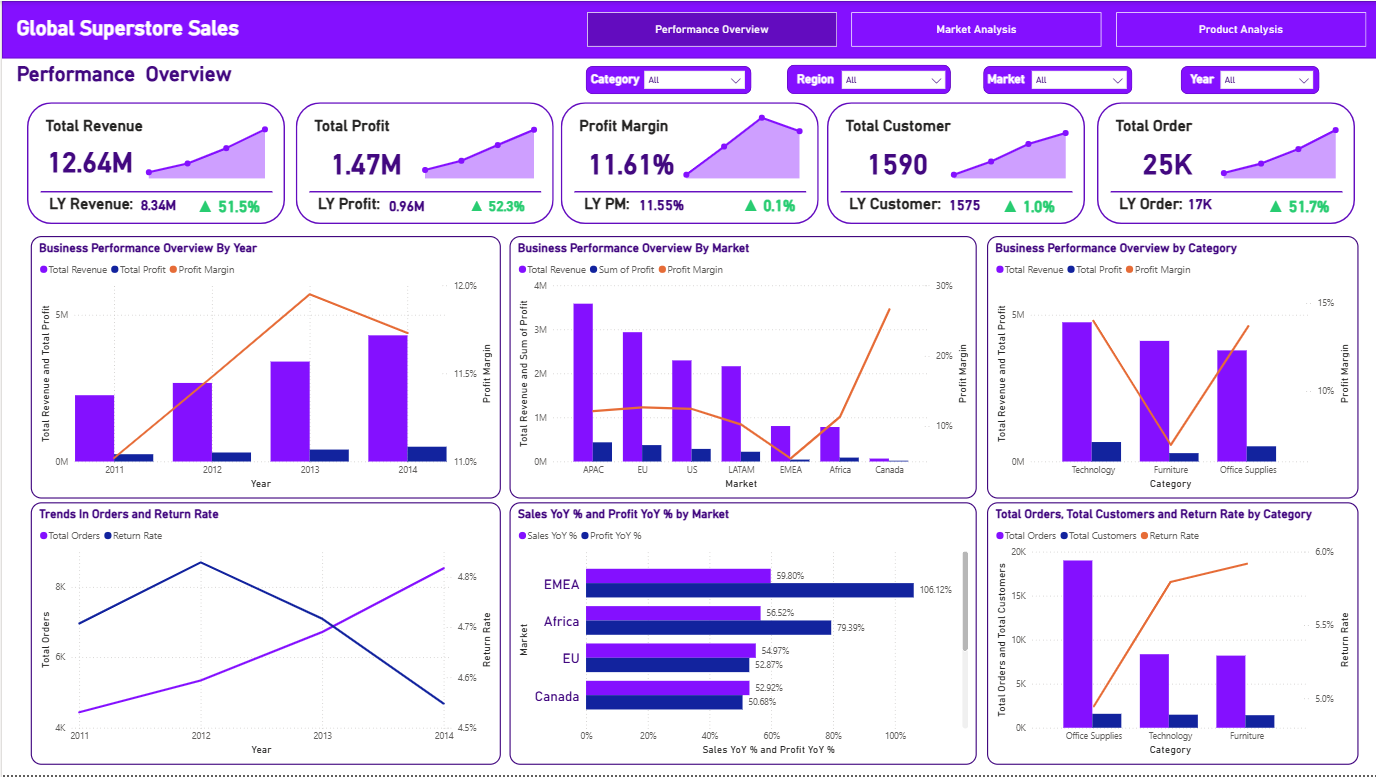

Layout of this report page (visuals, bound fields, positions):
{"tool":"powerbi","page":{"name":"Performance  Overview","canvas":[1920,1080],"ordinal":0},"visuals":[{"type":"shape","box":[0,0,1920,80],"z":0,"group":"g3"},{"type":"group","id":"g1","title":"Revenue Key","box":[35,141.7,360,233.3],"z":0,"group":"g11"},{"type":"card","title":"Sales","fields":{"Values":["Measure.Total Revenue"]},"box":[43.3,194.6,158.6,56.3],"z":0,"group":"g1"},{"type":"card","title":"Sales","fields":{"Values":["Measure.Total Profit"]},"box":[428.3,198.4,158.3,55],"z":0,"group":"g2"},{"type":"card","title":"Sales","fields":{"Values":["Measure.Profit Margin"]},"box":[798.3,198.4,158.3,55],"z":0,"group":"g8"},{"type":"card","title":"Sales","fields":{"Values":["Measure.Total Customers"]},"box":[1170.3,198.4,158.3,55],"z":0,"group":"g6"},{"type":"card","title":"Sales","fields":{"Values":["Measure.Total Orders"]},"box":[1545.8,198.4,158.3,55],"z":0,"group":"g4"},{"type":"lineClusteredColumnComboChart","title":"Business Performance Overview By Year","fields":{"Category":["Date.Date.Variation.Date Hierarchy.Year","Date.Month No"],"Y":["Measure.Total Sales","Measure.Total Profit"],"Y2":["Measure.Profit Margin"]},"box":[40,328,656,366],"z":0},{"type":"shape","box":[1095.8,89.5,228.6,41],"z":500,"group":"g5"},{"type":"shape","box":[814.6,91.1,231.2,39.3],"z":500,"group":"g7"},{"type":"shape","box":[1368.4,91.1,208,39.3],"z":500,"group":"g9"},{"type":"shape","box":[1644.9,91.1,193.5,39.3],"z":500,"group":"g10"},{"type":"textbox","box":[16,16,336,48],"z":1000,"group":"g3"},{"type":"textbox","box":[16,80,336,48],"z":1000,"group":"g12"},{"type":"slicer","title":"b","fields":{"Values":["Orders.Category","Orders.Sub-Category"]},"box":[886.6,87.5,160,44.4],"z":1000,"group":"g7"},{"type":"textbox","box":[1099.1,94.2,72.2,30],"z":1000,"group":"g5"},{"type":"textbox","box":[1364.9,95.3,71.1,30],"z":1000,"group":"g9"},{"type":"textbox","box":[1644.9,95.3,60,30],"z":1000,"group":"g10"},{"type":"group","id":"g2","title":"Profit Key","box":[410,141.7,360,233.3],"z":1000,"group":"g11"},{"type":"shape","box":[53.3,156.7,323.3,218.3],"z":1000,"group":"g1"},{"type":"shape","box":[428.3,156.7,323.3,218.3],"z":1000,"group":"g2"},{"type":"shape","box":[798.3,156.7,323.3,218.3],"z":1000,"group":"g8"},{"type":"shape","box":[1170.3,156.7,323.3,218.3],"z":1000,"group":"g6"},{"type":"shape","box":[1545.8,156.7,323.3,218.3],"z":1000,"group":"g4"},{"type":"group","id":"g3","title":"Navigate Bar","box":[0,0,1920,80],"z":2000,"group":"g12"},{"type":"pageNavigator","box":[816,16,1088,48],"z":2000,"group":"g3"},{"type":"slicer","title":"b","fields":{"Values":["Orders.Region"]},"box":[1161.4,87.5,164.4,52.2],"z":2000,"group":"g5"},{"type":"slicer","title":"b","fields":{"Values":["Orders.Market"]},"box":[1426,87.5,152.2,44.4],"z":2000,"group":"g9"},{"type":"slicer","title":"b","fields":{"Values":["Date.Year","Date.Month No"]},"box":[1690.5,87.5,148.9,44.4],"z":2000,"group":"g10"},{"type":"textbox","box":[814.4,95.3,82.2,35.6],"z":2000,"group":"g7"},{"type":"group","id":"g4","title":"Order Key","box":[1527.5,141.7,360,233.3],"z":2000,"group":"g11"},{"type":"lineChart","fields":{"Category":["Date.Year"],"Y":["Measure.Total Revenue"]},"box":[191,146,192,108],"z":2000,"group":"g1"},{"type":"lineChart","fields":{"Category":["Date.Year"],"Y":["Measure.Total Profit"]},"box":[576,146,182,108],"z":2000,"group":"g2"},{"type":"lineChart","fields":{"Category":["Date.Year"],"Y":["Measure.Profit Margin"]},"box":[940,146,188,108],"z":2000,"group":"g8"},{"type":"lineChart","fields":{"Category":["Date.Year"],"Y":["Measure.Total Customers"]},"box":[1314,146,186,108],"z":2000,"group":"g6"},{"type":"lineChart","fields":{"Category":["Date.Year"],"Y":["Measure.Total Orders"]},"box":[1690.5,146,186,108],"z":2000,"group":"g4"},{"type":"lineChart","title":"Trends In Orders and Return Rate","fields":{"Y":["Measure.Total Orders"],"Y2":["Measure.Return Rate"],"Category":["Date.Date.Variation.Date Hierarchy.Year"]},"box":[40,700,656,366],"z":2000},{"type":"group","id":"g5","title":"Region Filter","box":[1095.8,87.5,230,52.2],"z":3000,"group":"g12"},{"type":"group","id":"g6","title":"Customer Key","box":[1152,141.7,360,233.3],"z":3000,"group":"g11"},{"type":"textbox","box":[56.7,156.7,170,41.7],"z":3000,"group":"g1"},{"type":"textbox","box":[431.7,156.7,170,41.7],"z":3000,"group":"g2"},{"type":"textbox","box":[801.7,156.7,170,41.7],"z":3000,"group":"g8"},{"type":"textbox","box":[1173.7,156.7,170,41.7],"z":3000,"group":"g6"},{"type":"textbox","box":[1549.2,156.7,170,41.7],"z":3000,"group":"g4"},{"type":"group","id":"g7","title":"Category Filter","box":[814.4,87.5,232.2,44.4],"z":4000,"group":"g12"},{"type":"group","id":"g8","title":"Margin Key","box":[780,141.7,360,233.3],"z":4000,"group":"g11"},{"type":"textbox","box":[436.7,265,123.3,61.7],"z":4000,"group":"g2"},{"type":"textbox","box":[1554.2,265,123.3,61.7],"z":4000,"group":"g4"},{"type":"textbox","box":[61,266,136,60],"z":4000,"group":"g1"},{"type":"textbox","box":[808,266,150,60],"z":4000,"group":"g8"},{"type":"textbox","box":[1178,266,142,60],"z":4000,"group":"g6"},{"type":"lineClusteredColumnComboChart","title":"Business Performance Overview By Market","fields":{"Y":["Measure.Total Sales","Sum(Orders.Profit)"],"Y2":["Measure.Profit Margin"],"Category":["Orders.Market"]},"box":[708,328,652,366],"z":4000},{"type":"group","id":"g9","title":"Market Filter","box":[1364.9,87.5,213.3,44.4],"z":5000,"group":"g12"},{"type":"card","title":"Sales","fields":{"Values":["Measure.Total Orders LY"]},"box":[1612.5,264.4,116,46],"z":5000,"group":"g4"},{"type":"card","title":"Sales","fields":{"Values":["Measure.Profit LY"]},"box":[508.3,265,115,46.7],"z":5000,"group":"g2"},{"type":"card","title":"Sales","fields":{"Values":["Measure.Revenue LY"]},"box":[161,266,116,46],"z":5000,"group":"g1"},{"type":"card","title":"Sales","fields":{"Values":["Measure.Customers LY"]},"box":[1286,266,116,46],"z":5000,"group":"g6"},{"type":"card","title":"Sales","fields":{"Values":["Measure.Profit Margin LY"]},"box":[864,266.4,114,46],"z":5000,"group":"g8"},{"type":"group","id":"g10","title":"Year Filter","box":[1644.9,87.5,194.4,44.4],"z":6000,"group":"g12"},{"type":"card","title":"Sales","fields":{"Values":["Measure.Revenue YOY Display"]},"box":[265,265,101.7,46.7],"z":6000,"group":"g1"},{"type":"card","title":"Sales","fields":{"Values":["Measure.Profit YoY Display"]},"box":[640,265,101.7,46.7],"z":6000,"group":"g2"},{"type":"card","title":"Sales","fields":{"Values":["Measure.Customers YoY Display"]},"box":[1382,265,101.7,46.7],"z":6000,"group":"g6"},{"type":"card","title":"Sales","fields":{"Values":["Measure.Total Orders YoY Display"]},"box":[1757.5,265,101.7,46.7],"z":6000,"group":"g4"},{"type":"card","title":"Sales","fields":{"Values":["Measure.Profit Margin YoY Display"]},"box":[1011.7,265.5,116.9,45.9],"z":6000,"group":"g8"},{"type":"clusteredBarChart","fields":{"Category":["Orders.Market"],"Y":["Measure.Sales YoY %","Measure.Profit YoY %"]},"box":[708,700,652,366],"z":6000},{"type":"group","id":"g11","title":"Key Metric","box":[35,141.7,1852.5,233.3],"z":7000},{"type":"shape","box":[35,141.7,360,170],"z":7000,"group":"g1"},{"type":"shape","box":[410,141.7,360,170],"z":7000,"group":"g2"},{"type":"shape","box":[780,141.7,360,170],"z":7000,"group":"g8"},{"type":"shape","box":[1152,141.7,360,170],"z":7000,"group":"g6"},{"type":"shape","box":[1527.5,141.7,360,170],"z":7000,"group":"g4"},{"type":"lineClusteredColumnComboChart","title":"Business Performance Overview by Category","fields":{"Category":["Orders.Category","Orders.Sub-Category"],"Y2":["Measure.Profit Margin"],"Y":["Measure.Total Sales","Measure.Total Profit"]},"box":[1374,328,518,366],"z":8000},{"type":"group","id":"g12","title":"Filter & Navigate","box":[0,0,1920,139.7],"z":9000},{"type":"lineClusteredColumnComboChart","fields":{"Category":["Orders.Category"],"Y":["Measure.Total Orders","Measure.Total Customers"],"Y2":["Measure.Return Rate"]},"box":[1374,700,518,366],"z":10000}]}

Visuals, with their boxes in screenshot pixels (x1, y1, x2, y2), scaled from the page's 1920x1080 canvas onto the 1376x777 screenshot:
shape: detection(0, 0, 1375, 58)
"Revenue Key" group: detection(25, 102, 283, 270)
"Sales" card: detection(31, 140, 145, 181)
"Sales" card: detection(307, 143, 420, 182)
"Sales" card: detection(572, 143, 686, 182)
"Sales" card: detection(839, 143, 952, 182)
"Sales" card: detection(1108, 143, 1221, 182)
"Business Performance Overview By Year" lineClusteredColumnComboChart: detection(29, 236, 499, 499)
shape: detection(785, 64, 949, 94)
shape: detection(584, 66, 749, 94)
shape: detection(981, 66, 1130, 94)
shape: detection(1179, 66, 1318, 94)
textbox: detection(11, 12, 252, 46)
textbox: detection(11, 58, 252, 92)
"b" slicer: detection(635, 63, 750, 95)
textbox: detection(788, 68, 839, 89)
textbox: detection(978, 69, 1029, 90)
textbox: detection(1179, 69, 1222, 90)
"Profit Key" group: detection(294, 102, 552, 270)
shape: detection(38, 113, 270, 270)
shape: detection(307, 113, 539, 270)
shape: detection(572, 113, 804, 270)
shape: detection(839, 113, 1070, 270)
shape: detection(1108, 113, 1340, 270)
"Navigate Bar" group: detection(0, 0, 1375, 58)
pageNavigator: detection(585, 12, 1365, 46)
"b" slicer: detection(832, 63, 950, 101)
"b" slicer: detection(1022, 63, 1131, 95)
"b" slicer: detection(1212, 63, 1318, 95)
textbox: detection(584, 69, 643, 94)
"Order Key" group: detection(1095, 102, 1353, 270)
lineChart - Date.Year x Measure.Total Revenue: detection(137, 105, 274, 183)
lineChart - Date.Year x Measure.Total Profit: detection(413, 105, 543, 183)
lineChart - Date.Year x Measure.Profit Margin: detection(674, 105, 808, 183)
lineChart - Date.Year x Measure.Total Customers: detection(942, 105, 1075, 183)
lineChart - Date.Year x Measure.Total Orders: detection(1212, 105, 1345, 183)
"Trends In Orders and Return Rate" lineChart: detection(29, 504, 499, 767)
"Region Filter" group: detection(785, 63, 950, 101)
"Customer Key" group: detection(826, 102, 1084, 270)
textbox: detection(41, 113, 162, 143)
textbox: detection(309, 113, 431, 143)
textbox: detection(575, 113, 696, 143)
textbox: detection(841, 113, 963, 143)
textbox: detection(1110, 113, 1232, 143)
"Category Filter" group: detection(584, 63, 750, 95)
"Margin Key" group: detection(559, 102, 817, 270)
textbox: detection(313, 191, 401, 235)
textbox: detection(1114, 191, 1202, 235)
textbox: detection(44, 191, 141, 235)
textbox: detection(579, 191, 687, 235)
textbox: detection(844, 191, 946, 235)
"Business Performance Overview By Market" lineClusteredColumnComboChart: detection(507, 236, 975, 499)
"Market Filter" group: detection(978, 63, 1131, 95)
"Sales" card: detection(1156, 190, 1239, 223)
"Sales" card: detection(364, 191, 447, 224)
"Sales" card: detection(115, 191, 199, 224)
"Sales" card: detection(922, 191, 1005, 224)
"Sales" card: detection(619, 192, 701, 225)
"Year Filter" group: detection(1179, 63, 1318, 95)
"Sales" card: detection(190, 191, 263, 224)
"Sales" card: detection(459, 191, 532, 224)
"Sales" card: detection(990, 191, 1063, 224)
"Sales" card: detection(1260, 191, 1332, 224)
"Sales" card: detection(725, 191, 809, 224)
clusteredBarChart - Orders.Market x Measure.Sales YoY %: detection(507, 504, 975, 767)
"Key Metric" group: detection(25, 102, 1353, 270)
shape: detection(25, 102, 283, 224)
shape: detection(294, 102, 552, 224)
shape: detection(559, 102, 817, 224)
shape: detection(826, 102, 1084, 224)
shape: detection(1095, 102, 1353, 224)
"Business Performance Overview by Category" lineClusteredColumnComboChart: detection(985, 236, 1356, 499)
"Filter & Navigate" group: detection(0, 0, 1375, 101)
lineClusteredColumnComboChart - Orders.Category x Measure.Total Orders: detection(985, 504, 1356, 767)
